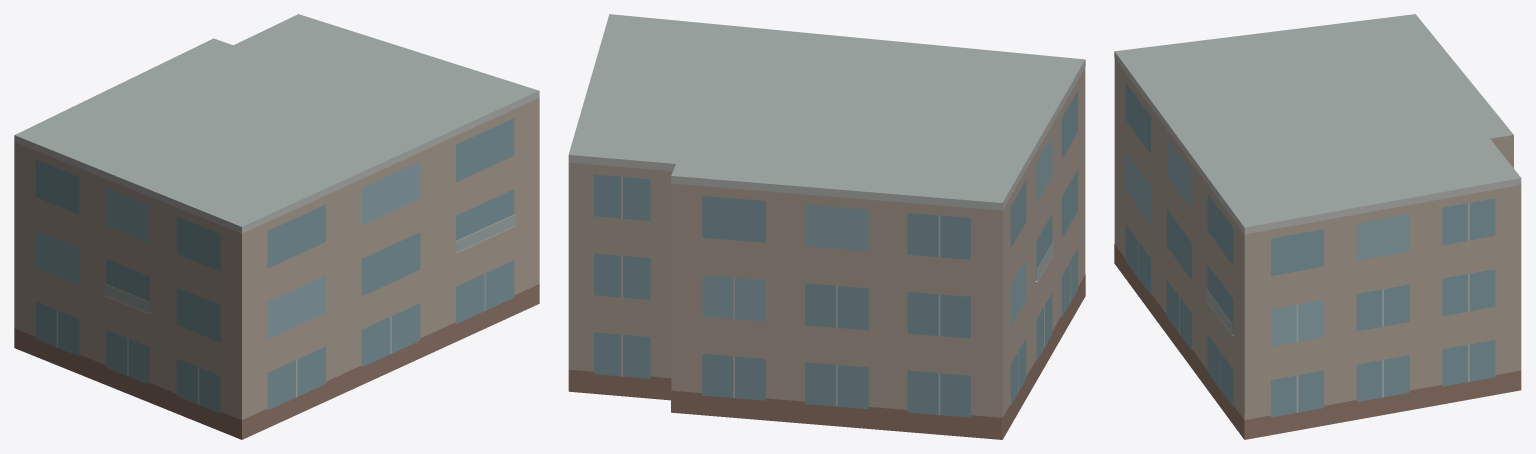
File: survey-upis-32645959.glb
The picture shows the model from 3 angles, left to right: view 1: azimuth 30°, elevation 25°; view 2: azimuth 150°, elevation 25°; view 3: azimuth 270°, elevation 25°; orthographic projection. The views are drawn at different scales.
Parts seen in each view (by area): view 1: survey-upis-32645959.tmp; view 2: survey-upis-32645959.tmp; view 3: survey-upis-32645959.tmp.
Part boxes in pixels (x1,y1,x2,y2): survey-upis-32645959.tmp: [14, 14, 539, 439]; survey-upis-32645959.tmp: [568, 14, 1085, 439]; survey-upis-32645959.tmp: [1114, 14, 1521, 439].
Bounding box in the file's own units: 16.42 × 7.6 × 13.22.
